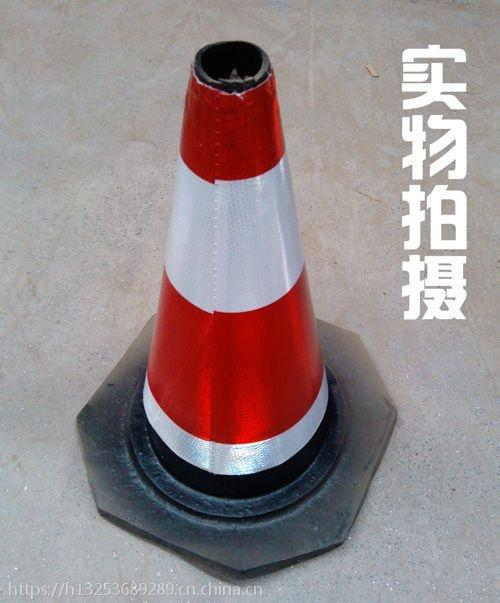cone_barrel: (131, 24, 343, 493)
